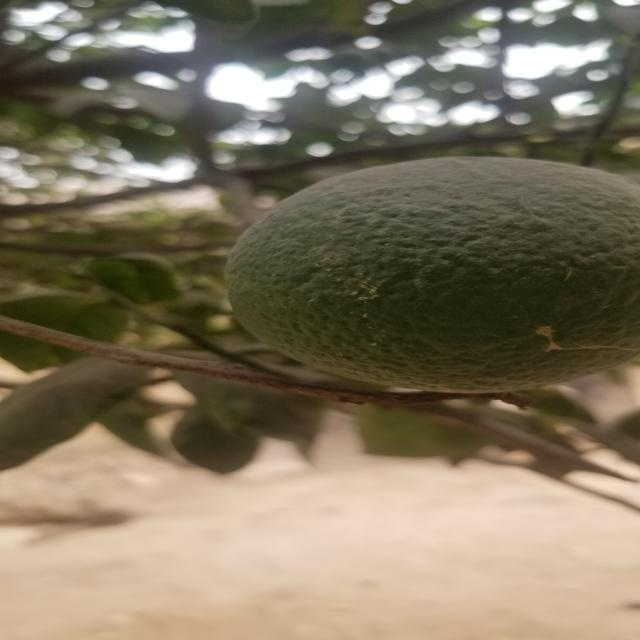agrume: (235, 160, 640, 394)
